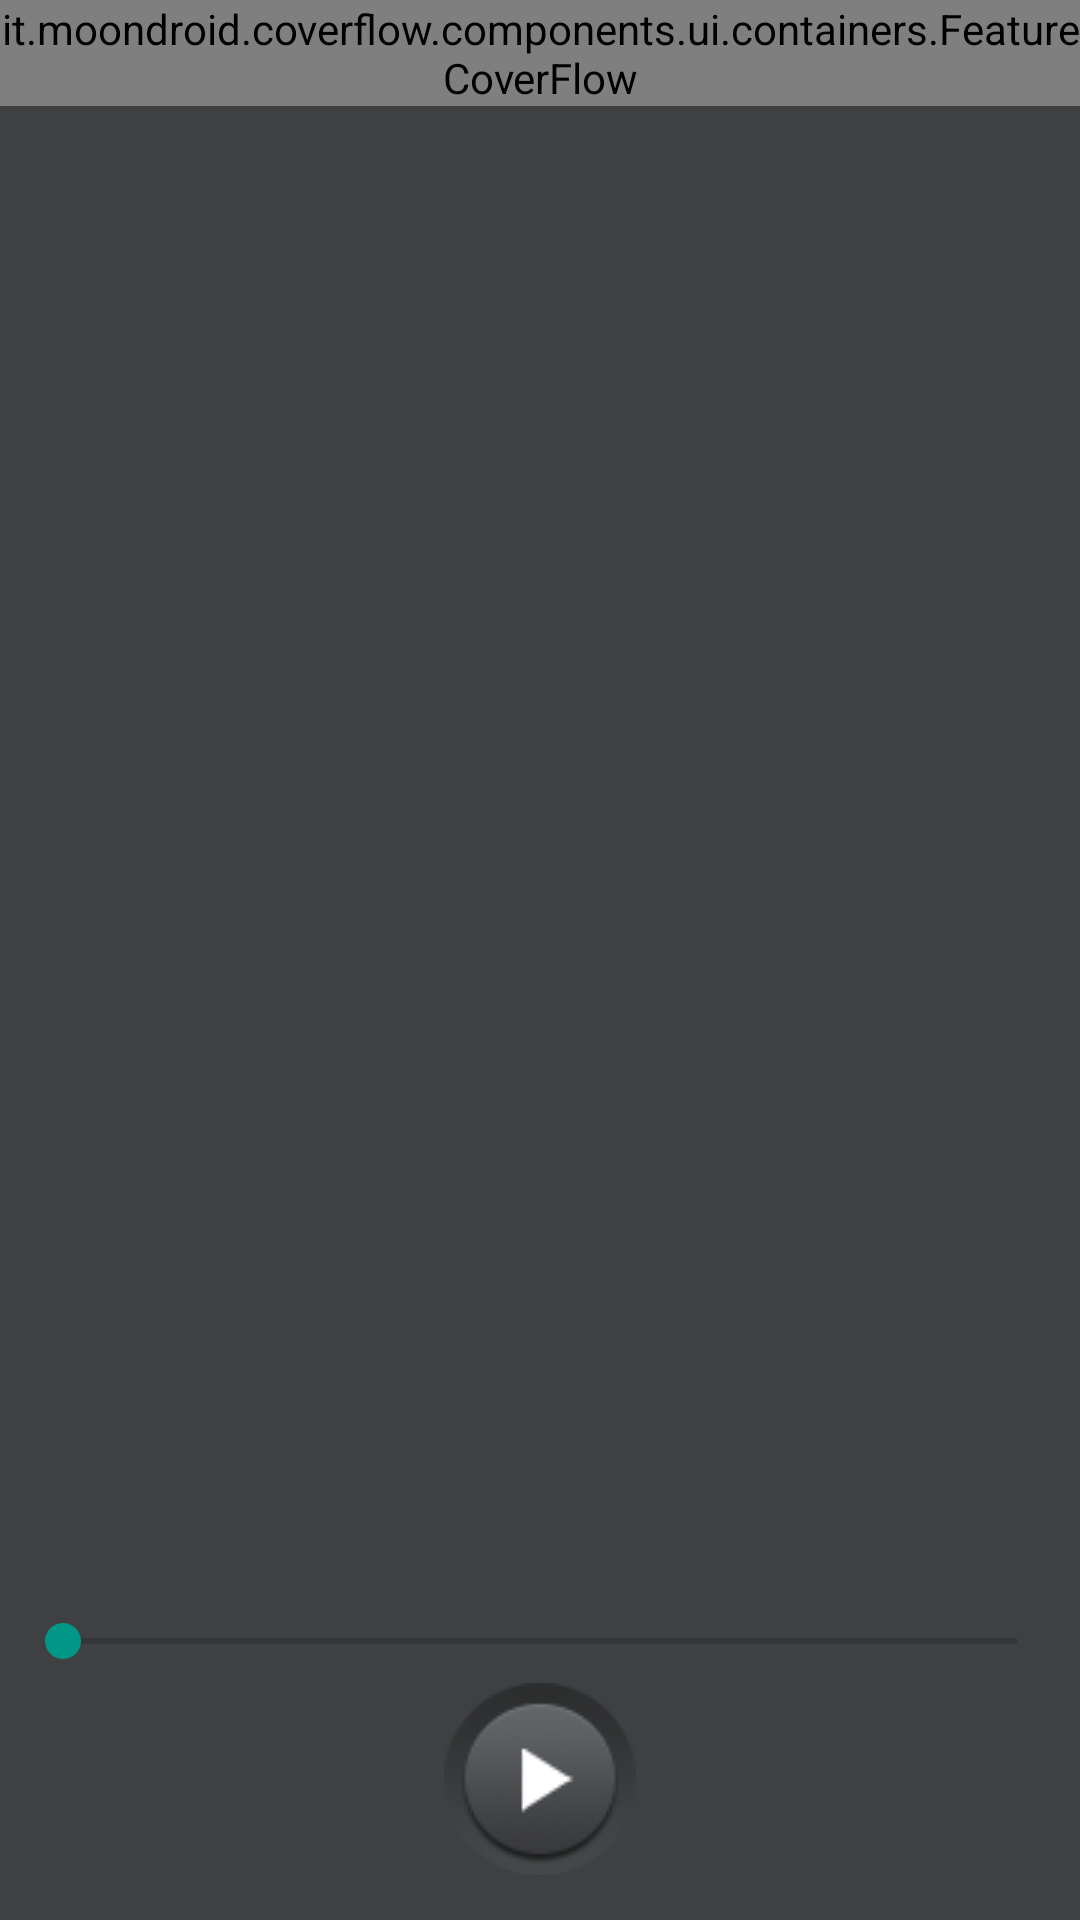

Point at icon controls on the screen. Image size 1080×1920, points as (x=x, y=y).
play: (x=540, y=1781)
